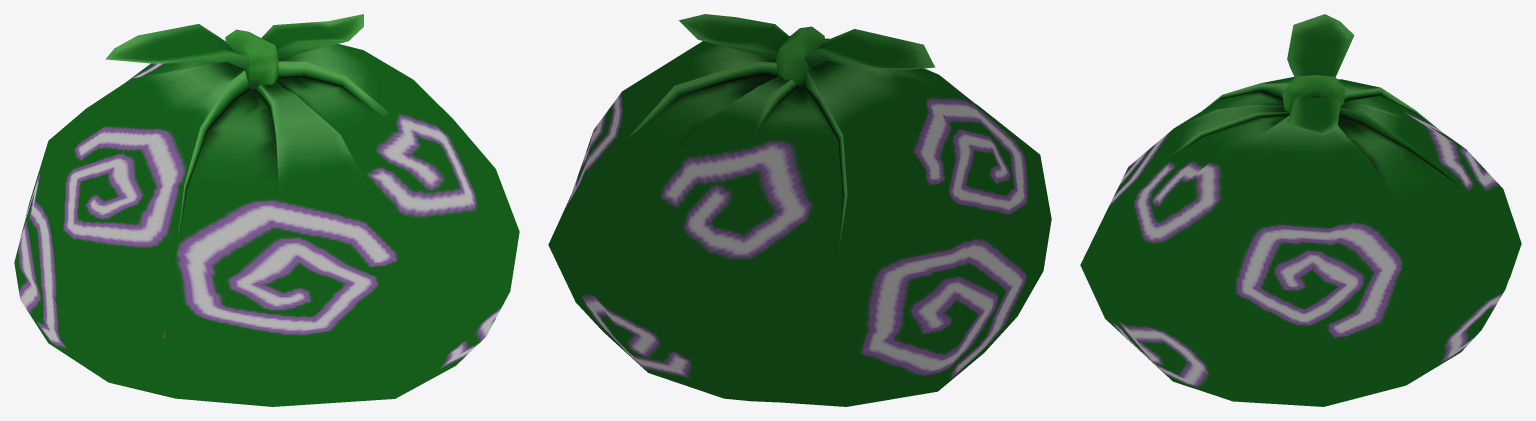
File: view.ico.obj
The picture shows the model from 3 angles, left to right: view 1: azimuth 30°, elevation 25°; view 2: azimuth 150°, elevation 25°; view 3: azimuth 270°, elevation 25°; orthographic projection. The views are drawn at different scales.
Size of the model in its own units: 3.7 by 2.67 by 3.85.
1 material, 1 textured.
